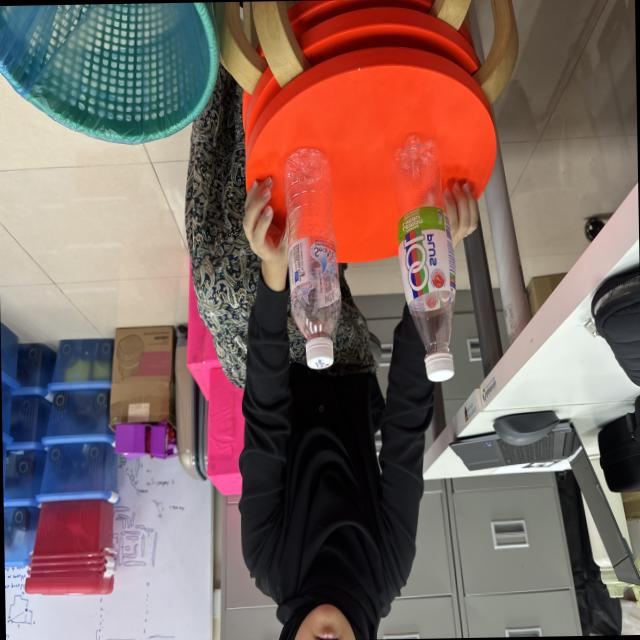dustbin: (0, 1, 223, 158)
plastic_bottle: (390, 127, 461, 389), (278, 140, 348, 374)
